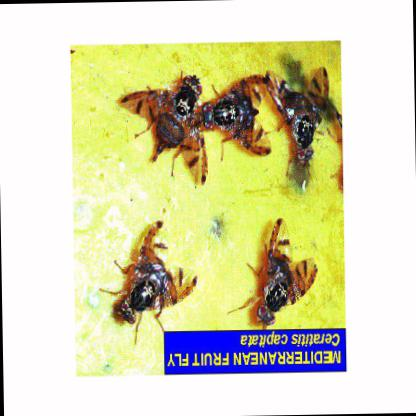fruit fly: (118, 74, 207, 187), (117, 218, 197, 327), (256, 219, 317, 326), (266, 66, 329, 169), (202, 74, 272, 159)
